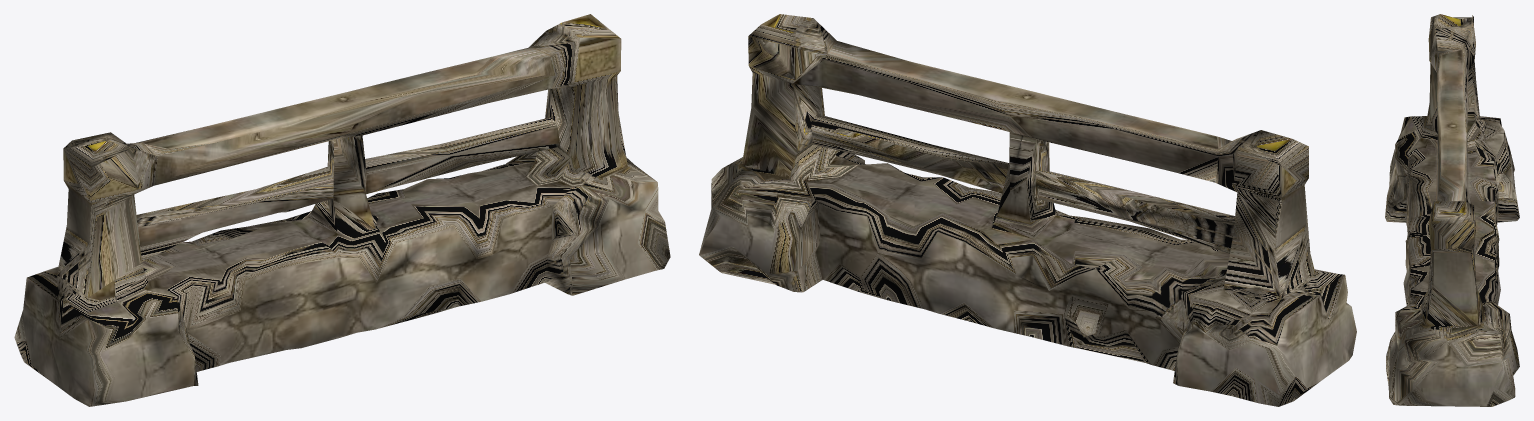
The model's file is meshy_wall_stone_railing_lod1.glb.
3 views of the same model, side by side, from view 1: azimuth 30°, elevation 25°; view 2: azimuth 150°, elevation 25°; view 3: azimuth 270°, elevation 25° (orthographic). The views are drawn at different scales.
Bounding box in the file's own units: 3.24 × 1.2 × 0.8071.
1 material, 1 textured.
